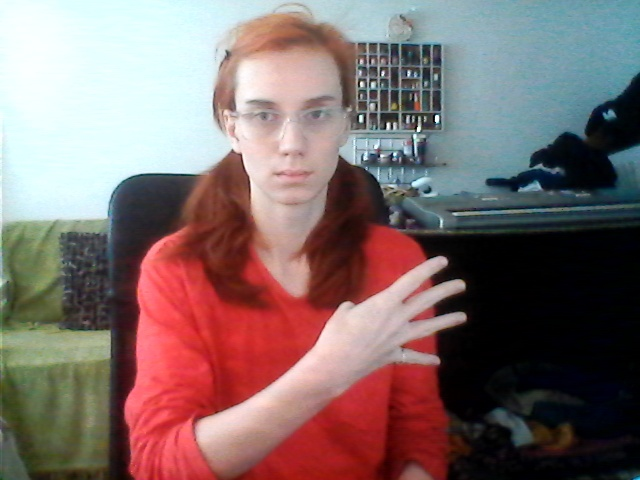styri: (319, 252, 471, 393)
